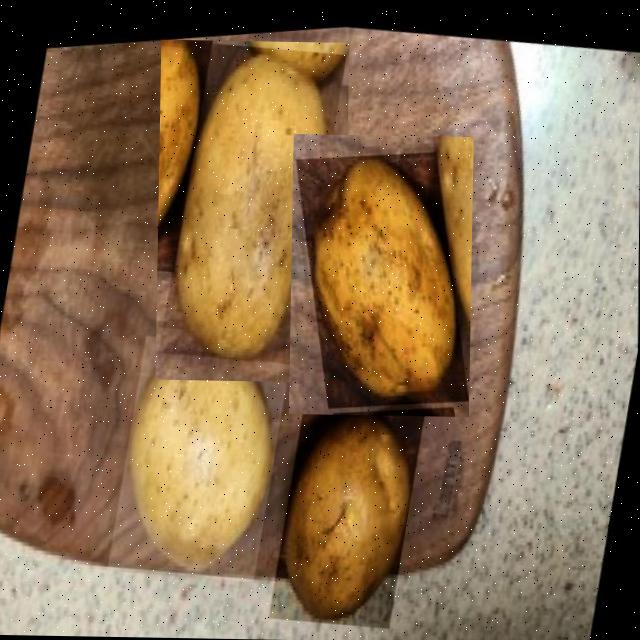Potato: (155, 40, 349, 382), (288, 134, 474, 416), (105, 315, 294, 585), (267, 388, 426, 633)
